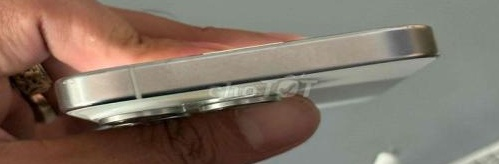scratch: (59, 77, 80, 85), (252, 55, 260, 60), (400, 48, 408, 53)
